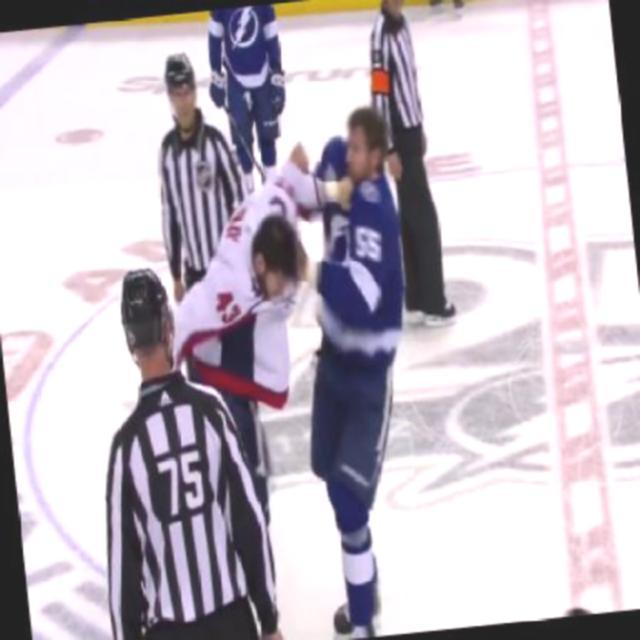fight: (168, 102, 430, 507)
non-fight: (69, 254, 280, 638)
